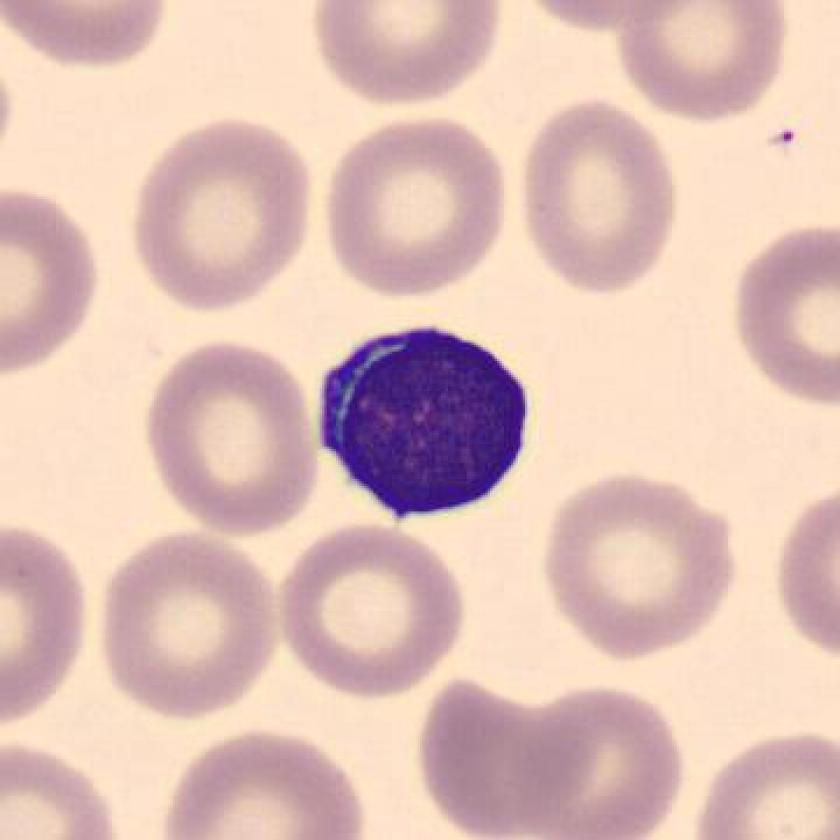lymphocyte: (300, 311, 552, 543)
